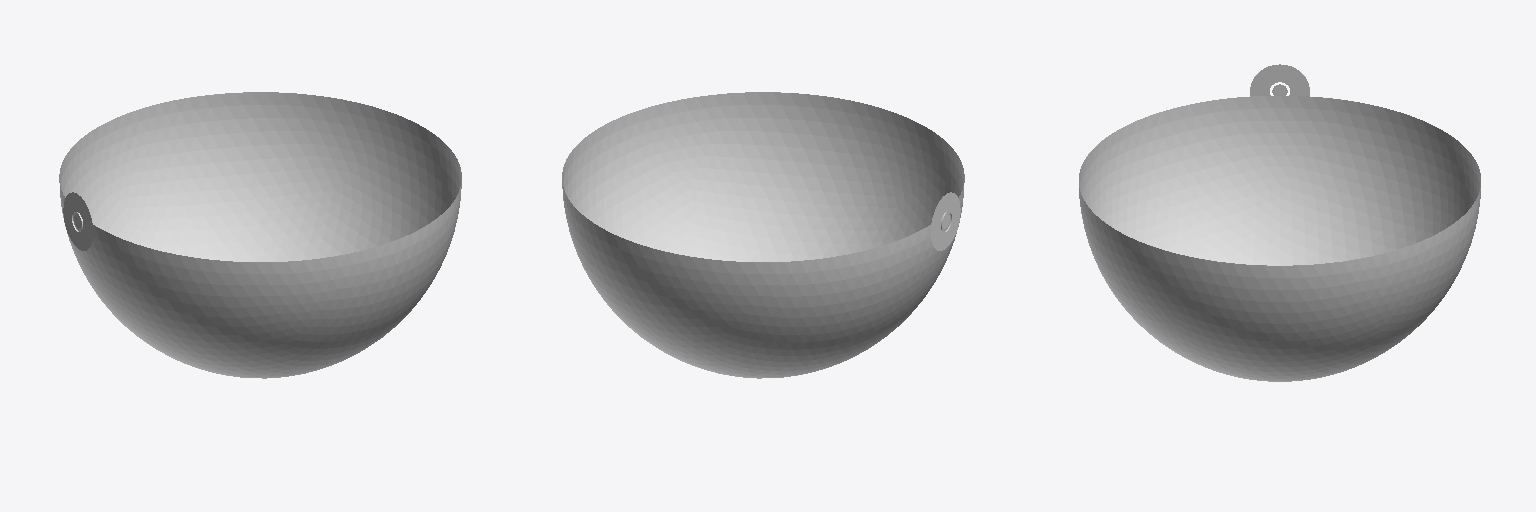
File: PokeWhite.obj
The picture shows the model from 3 angles: view 1: azimuth 30°, elevation 25°; view 2: azimuth 150°, elevation 25°; view 3: azimuth 270°, elevation 25°; orthographic projection.
Parts seen in each view (by area): view 1: PokeWhite; view 2: PokeWhite; view 3: PokeWhite.
Part boxes in pixels (left/top/right/bottom): PokeWhite: left=59, top=92, right=461, bottom=378; PokeWhite: left=562, top=92, right=964, bottom=378; PokeWhite: left=1079, top=64, right=1480, bottom=381.
Bounding box in the file's own units: 205 × 115 × 200.